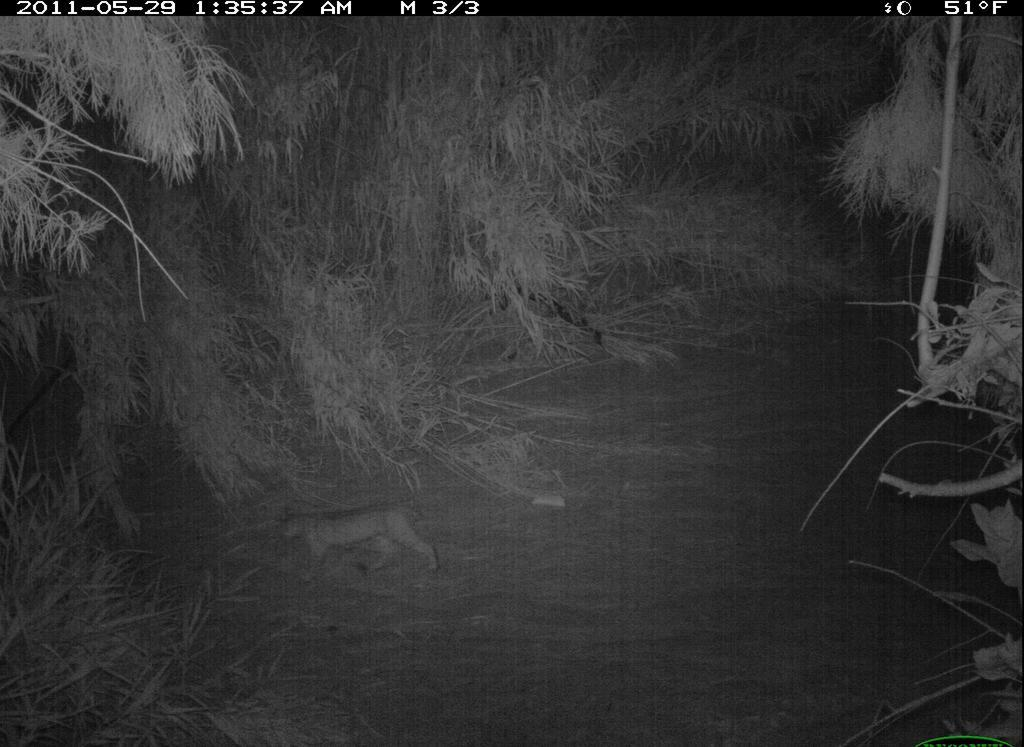bobcat: (272, 492, 455, 589)
